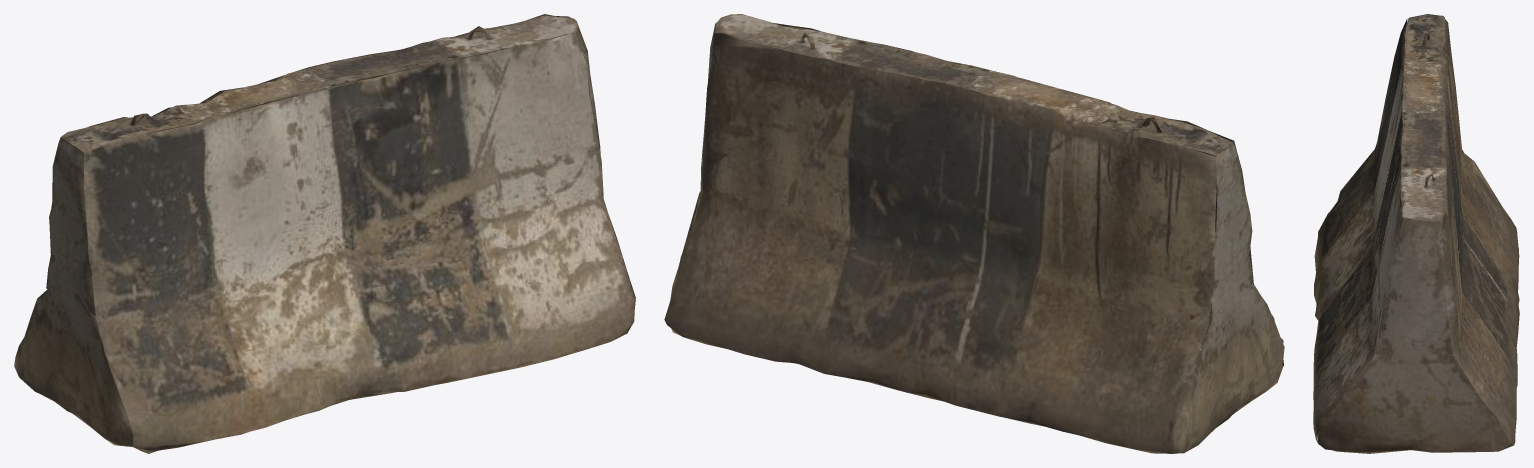
The model's file is barrier_long.glb.
3 renders of one model, left to right at view 1: azimuth 30°, elevation 25°; view 2: azimuth 150°, elevation 25°; view 3: azimuth 270°, elevation 25°, orthographic. The views are drawn at different scales.
Visible parts, largest first — view 1: barrier_long; view 2: barrier_long; view 3: barrier_long.
Part boxes in pixels (left/top/right/bottom): barrier_long: left=14, top=14, right=635, bottom=453; barrier_long: left=664, top=14, right=1284, bottom=453; barrier_long: left=1313, top=14, right=1519, bottom=453.
Bounding box in the file's own units: 1.54 × 0.8326 × 0.6344.
Materials: 1 (1 with a texture image).
